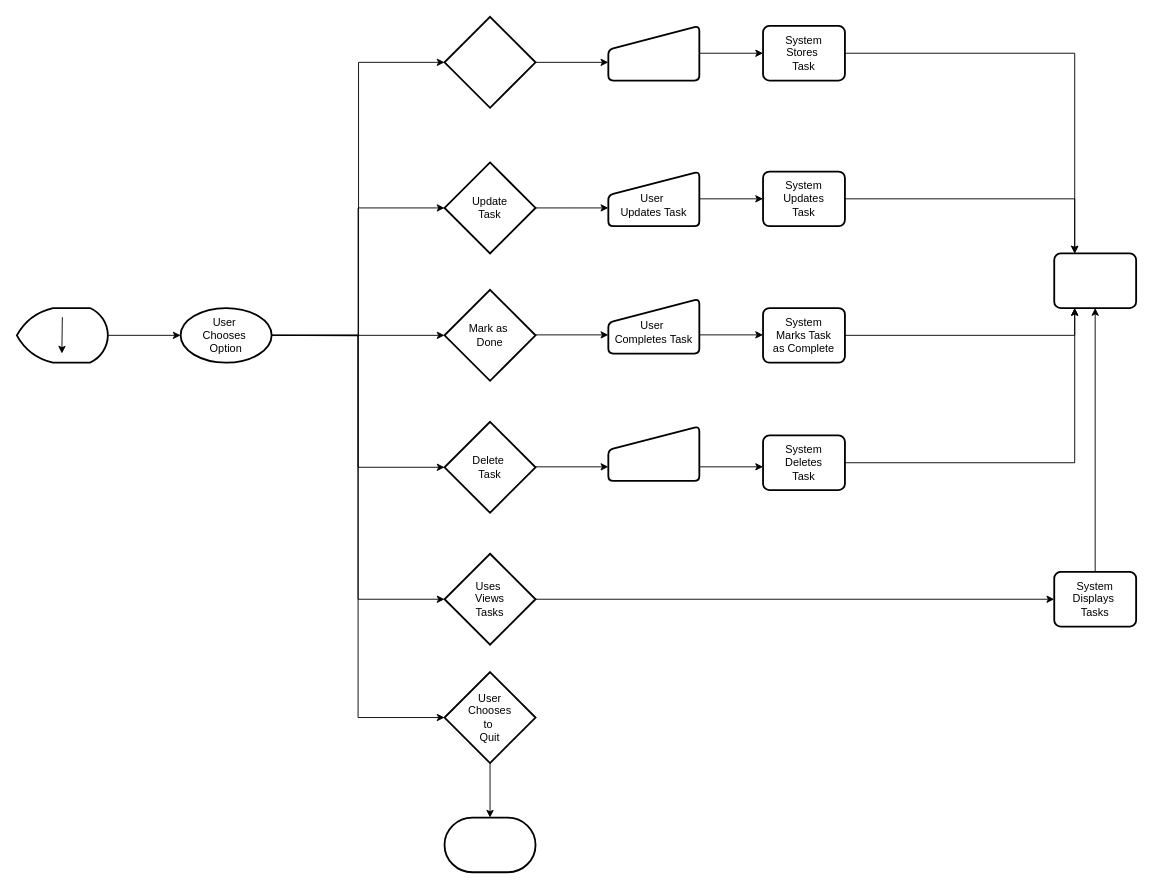
The diagram is 1152 pixels wide and 888 high, and some of its shapes have lost their labels. Each missing label, with the centre of its shape:
Input Task: the point at 489,61
System Displays Menu: the point at 61,335
System Terminates Program: the point at 489,844
System Updates Calendar: the point at 1095,280
User Adds Task: the point at 653,53
User Deletes Task: the point at 653,453
